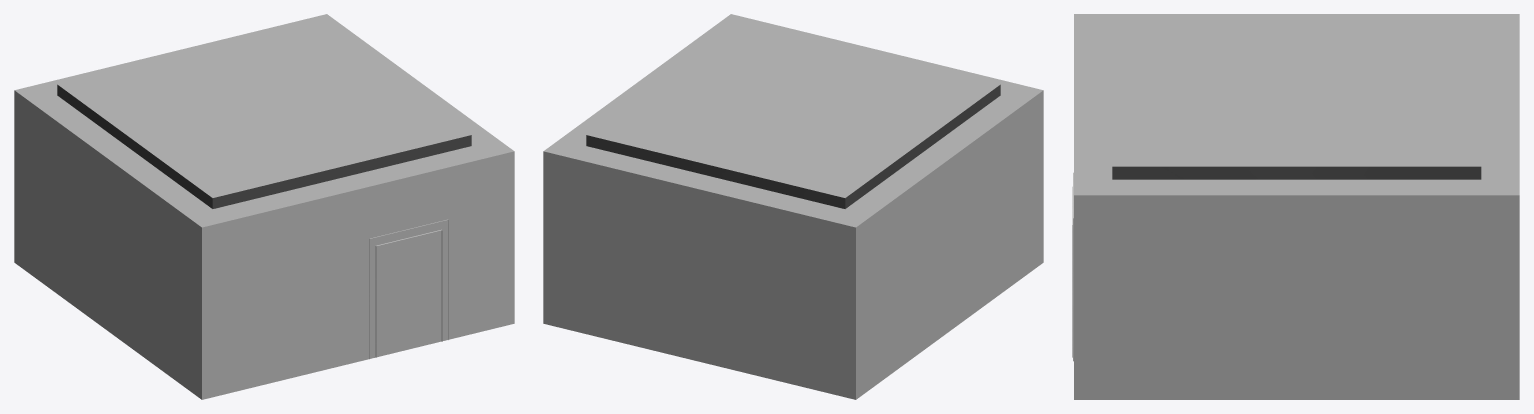
File: HOSIPITAL.fbx
3 views of the same model, side by side, from view 1: azimuth 30°, elevation 25°; view 2: azimuth 150°, elevation 25°; view 3: azimuth 270°, elevation 25° (orthographic). The views are drawn at different scales.
Parts seen in each view (by area): view 1: HOSIPITAL027, HOSIPITAL037; view 2: HOSIPITAL027; view 3: HOSIPITAL027.
Part boxes in pixels (x1,y1,x2,y2): HOSIPITAL027: (14,14,514,399); HOSIPITAL037: (369,219,448,358); HOSIPITAL027: (543,14,1043,399); HOSIPITAL027: (1074,14,1519,399).
Size of the model in its own units: 757 by 425 by 790.
